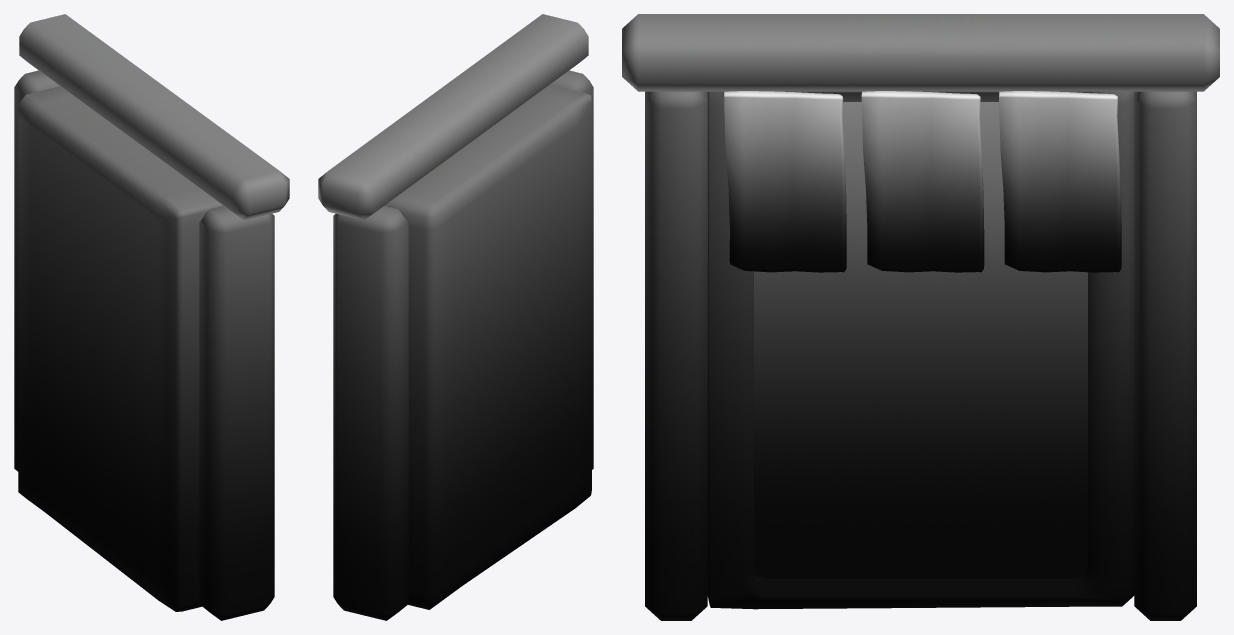
Rendered from SM_Wood_Door_03.fbx.
3 renders of one model, left to right at view 1: azimuth 30°, elevation 25°; view 2: azimuth 150°, elevation 25°; view 3: azimuth 270°, elevation 25°, orthographic. The views are drawn at different scales.
Parts seen in each view (by area): view 1: SM_Wood_Door_03; view 2: SM_Wood_Door_03; view 3: SM_Wood_Door_03.
Part boxes in pixels (x1,y1,x2,y2): SM_Wood_Door_03: [14, 14, 289, 620]; SM_Wood_Door_03: [318, 14, 593, 620]; SM_Wood_Door_03: [622, 14, 1219, 620].
Size of the model in its own units: 0.2536 by 1.16 by 1.06.
